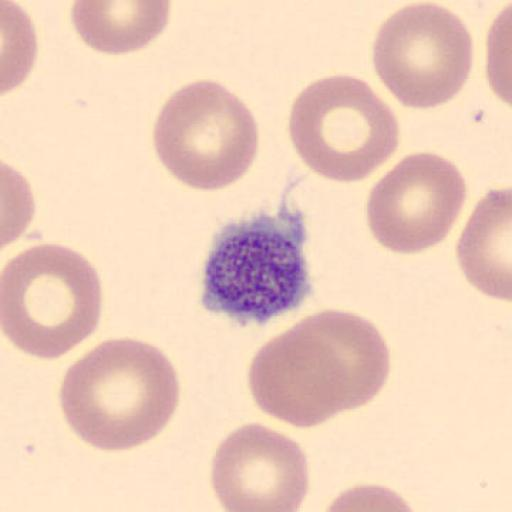Platelet: (195, 210, 317, 330)
RBC: (245, 308, 381, 431), (58, 335, 181, 453), (286, 74, 402, 184), (151, 77, 260, 192), (1, 240, 103, 360), (370, 0, 475, 111), (245, 321, 352, 429), (364, 150, 468, 256), (292, 307, 392, 414), (208, 420, 311, 512), (455, 186, 512, 303), (69, 0, 172, 56), (1, 0, 39, 99), (1, 159, 37, 250), (318, 482, 423, 512), (485, 1, 512, 110)
